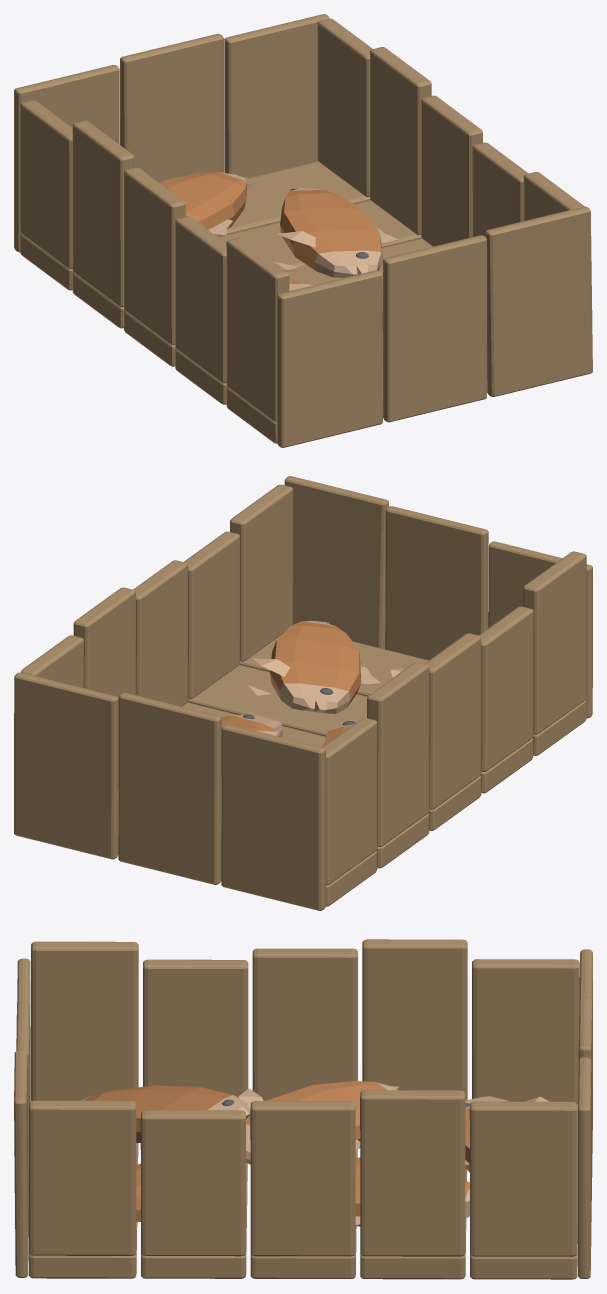
File: OrangeFish.fbx
3 renders of one model, top to bottom at view 1: azimuth 30°, elevation 25°; view 2: azimuth 150°, elevation 25°; view 3: azimuth 270°, elevation 25°, orthographic. The views are drawn at different scales.
Visible parts, largest first — view 1: Plane.047; view 2: Plane.047; view 3: Plane.047.
Boxes of the visible parts, x1,y1,x2,y2 form: Plane.047: (14,14,592,447); Plane.047: (14,476,592,910); Plane.047: (14,939,592,1279).
Bounding box in the file's own units: 161 × 84.57 × 242.
